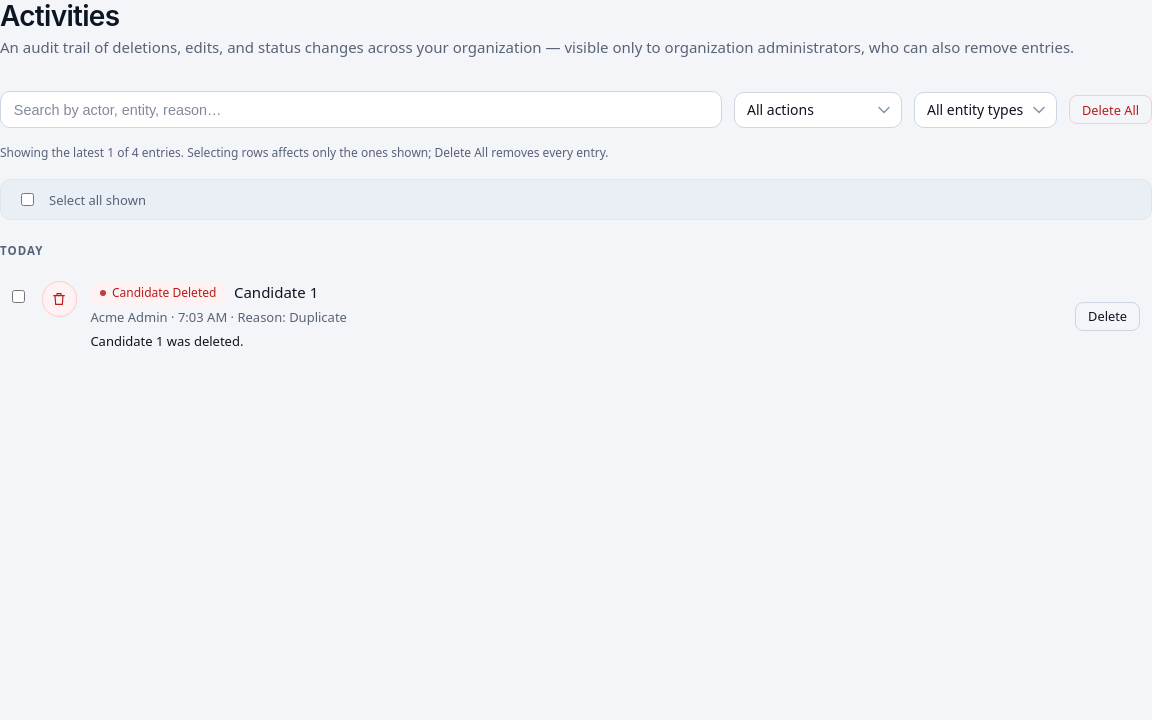
Test: ActivitiesPage delete › does not delete when the confirmation is cancelled
Click the button "Delete" at (1108, 316), box [1075,302,1140,331]
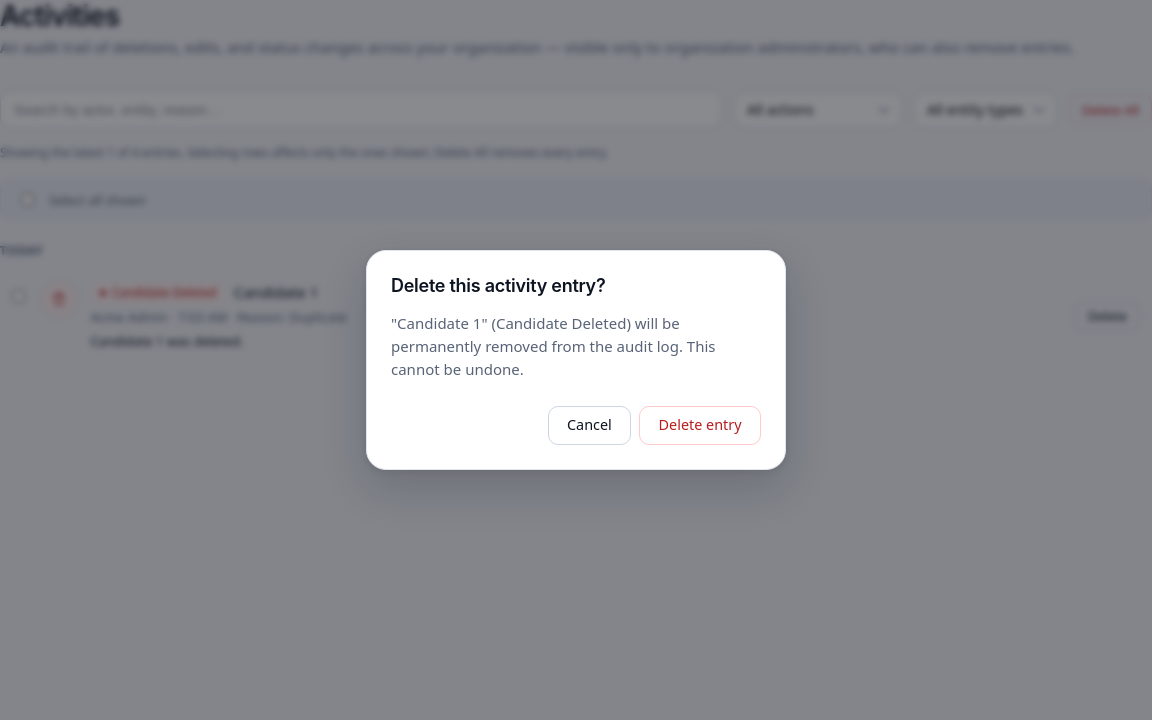
Click the button "Cancel" at (589, 425), box [548,406,631,445]
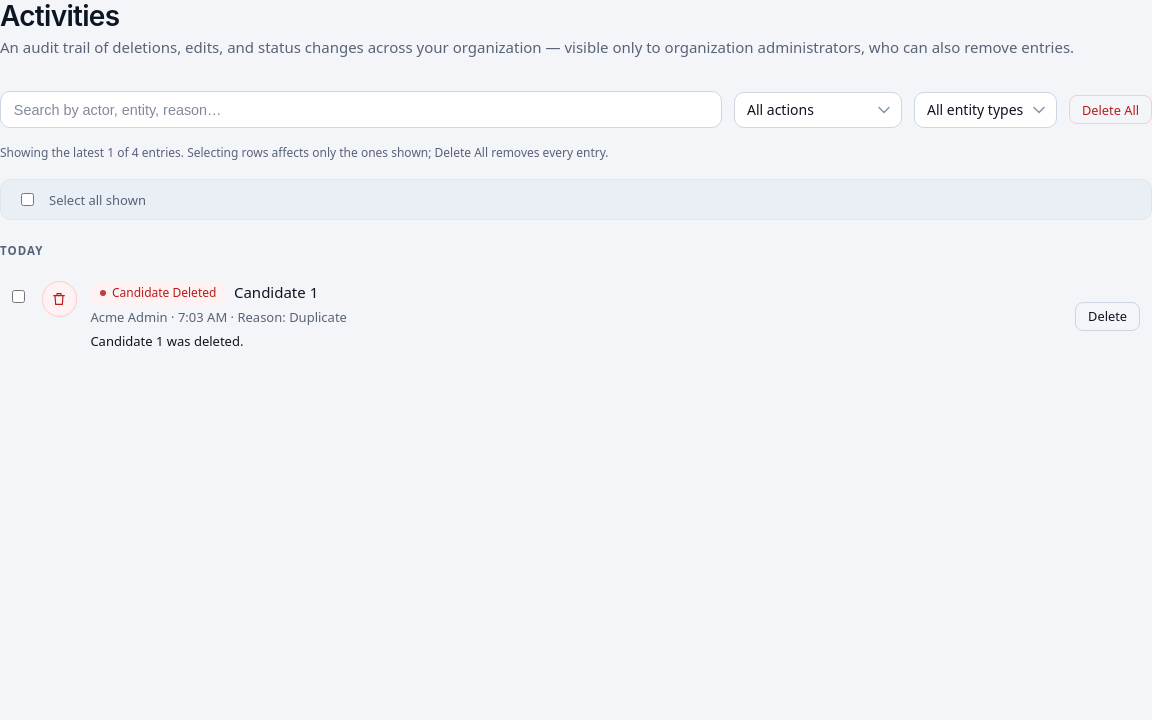
Result: the dialog is gone
